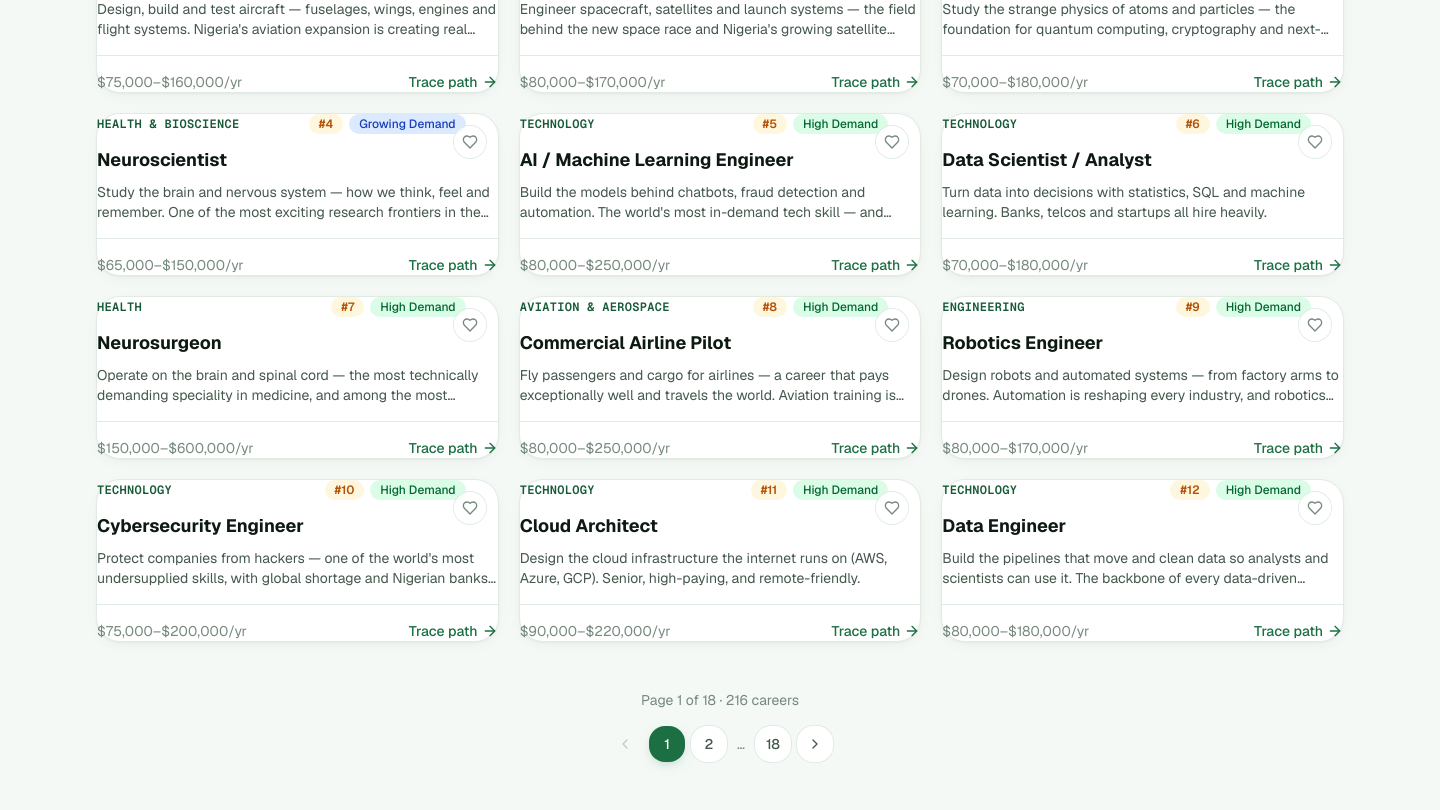
it: CareersExplorer › paginates to later careers via the next button
(page scrolled)
Click the button named "Next page".
click(815, 744)  # box x1=797 y1=726 x2=833 y2=762
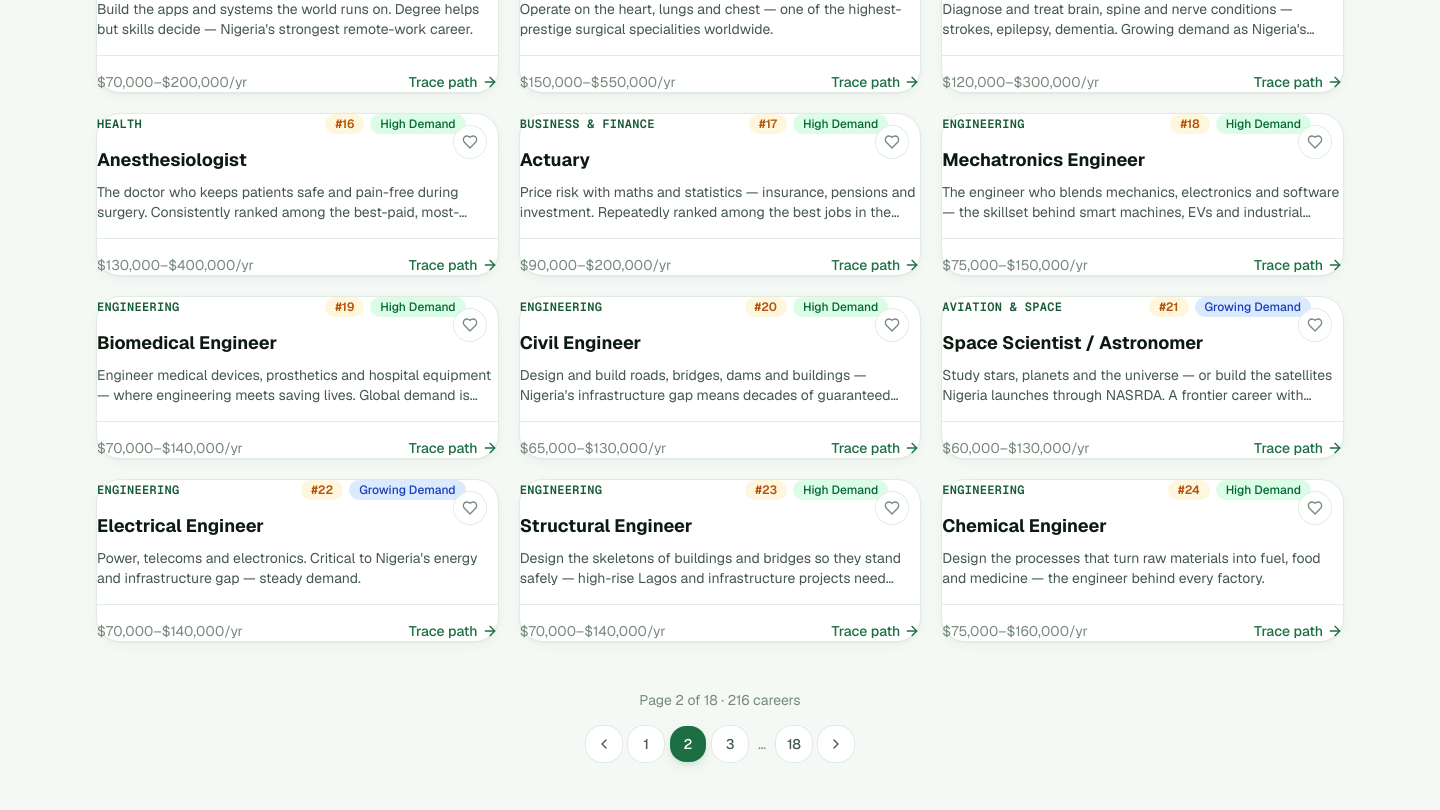
Expected: the text "Page 2 of 18 · 216 careers" is shown, x1=639 y1=690 x2=801 y2=710
